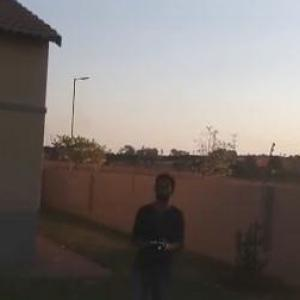follow: (119, 168, 185, 299)
